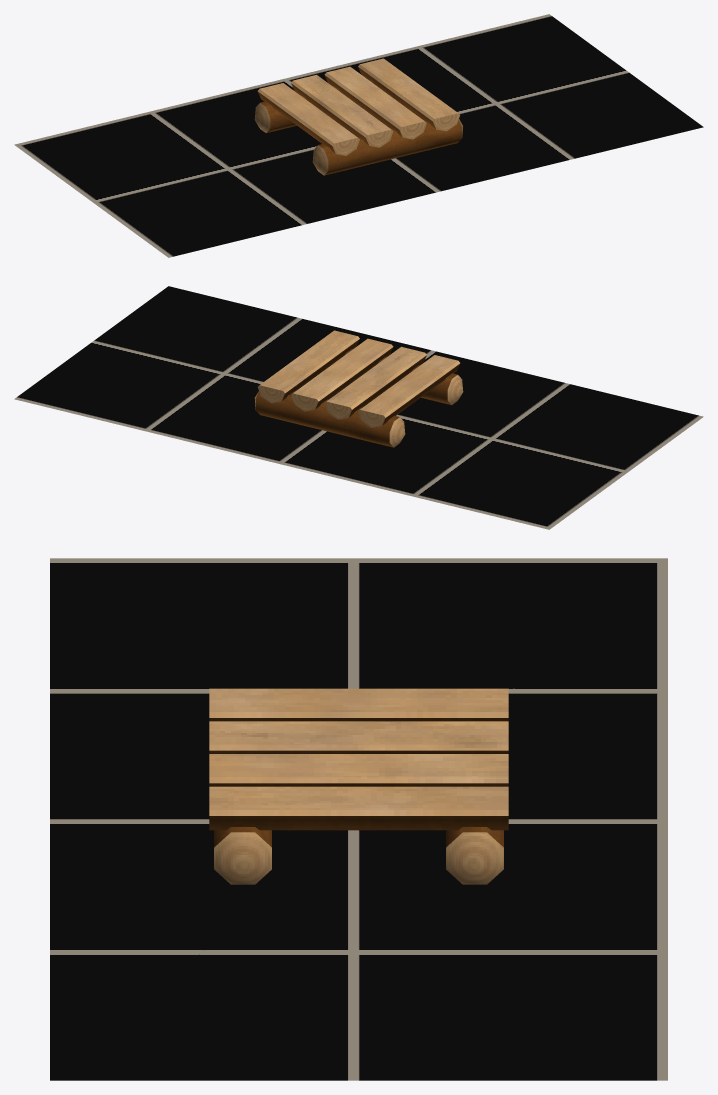
The model's file is Docks_Decking_Flat_1x1.glb.
The picture shows the model from 3 angles, top to bottom: view 1: azimuth 30°, elevation 25°; view 2: azimuth 150°, elevation 25°; view 3: azimuth 270°, elevation 25°; orthographic projection. The views are drawn at different scales.
Visible parts, largest first — view 1: Floor, Docks_Decking_Flat_1x1; view 2: Floor, Docks_Decking_Flat_1x1; view 3: Floor, Docks_Decking_Flat_1x1.
Part boxes in pixels (x1=…): Floor: x1=14, y1=14, x2=703, y2=257; Docks_Decking_Flat_1x1: x1=254, y1=58, x2=463, y2=175; Floor: x1=14, y1=286, x2=703, y2=529; Docks_Decking_Flat_1x1: x1=254, y1=330, x2=463, y2=447; Floor: x1=50, y1=558, x2=667, y2=1080; Docks_Decking_Flat_1x1: x1=209, y1=688, x2=508, y2=884.
Size of the model in its own units: 400 by 25 by 200.
4 materials, 4 textured.
